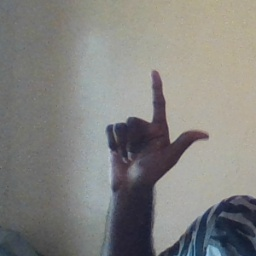L: (106, 68, 212, 192)
